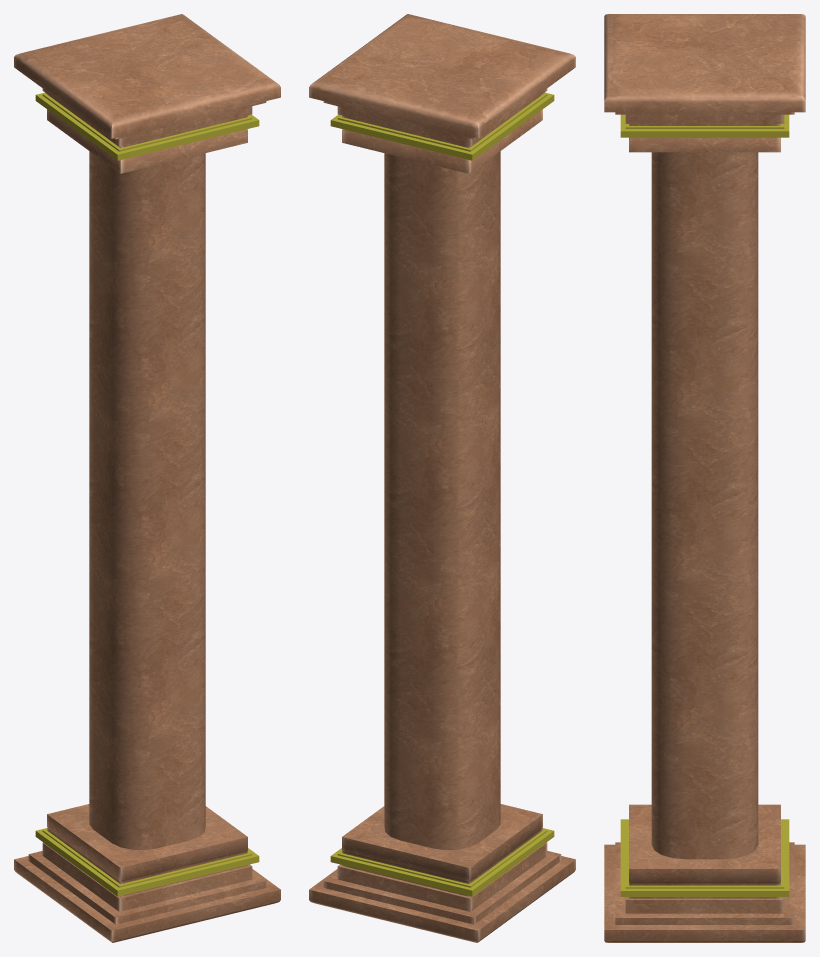
Rendered from Columna4.fbx.
3 views of the same model, side by side, from view 1: azimuth 30°, elevation 25°; view 2: azimuth 150°, elevation 25°; view 3: azimuth 270°, elevation 25° (orthographic). The views are drawn at different scales.
Visible parts, largest first — view 1: Cube; view 2: Cube; view 3: Cube.
Part boxes in pixels (bbox=[...]): Cube: bbox=[14, 14, 280, 942]; Cube: bbox=[309, 14, 575, 942]; Cube: bbox=[604, 14, 805, 942].
Size of the model in its own units: 415 by 1931 by 415.
Materials: 1 (1 with a texture image).
